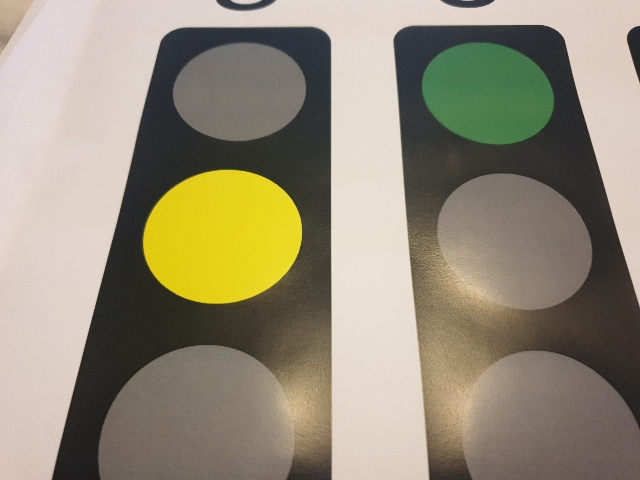amber: (140, 28, 331, 467)
green: (390, 21, 618, 458)
